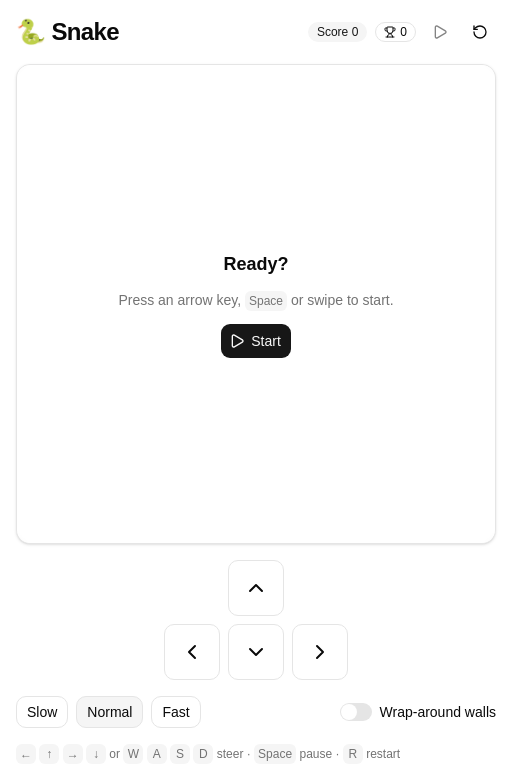
it: playing › pauses and resumes with Space and the header button
Press ArrowRight
Wait 300 ms
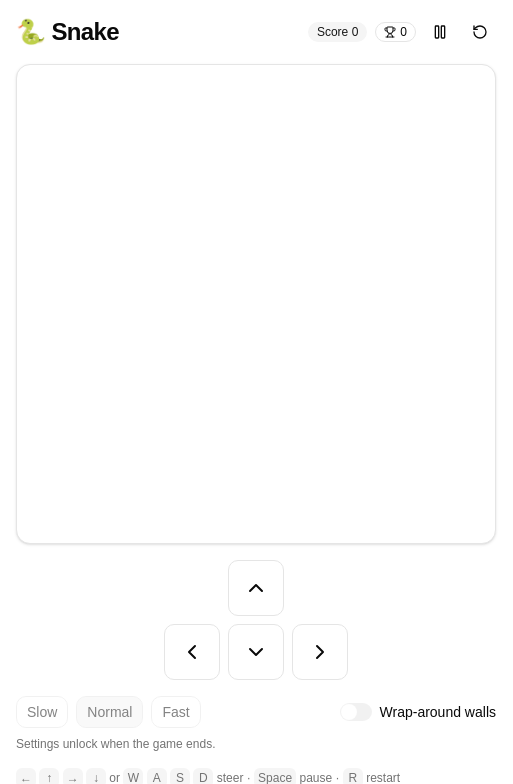
Press Space
Wait 1500 ms
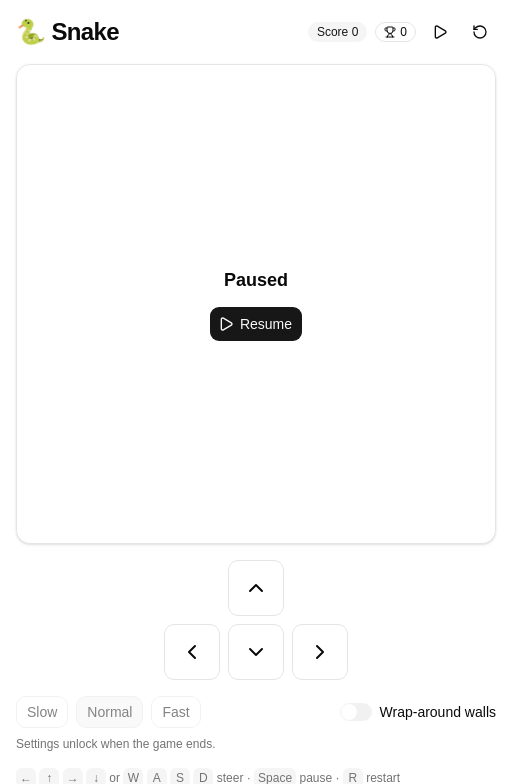
Expected: the text "Paused" is shown, [224,266,288,294]
Press ArrowUp
Click the button named "Resume".
click(440, 32)  # box [424,16,456,48]
Wait 300 ms
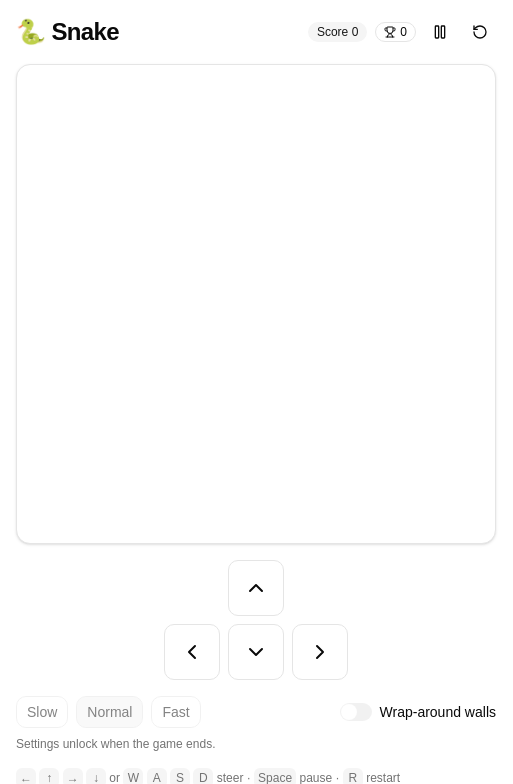
Click the button named "Pause".
click(440, 32)  # box [424,16,456,48]
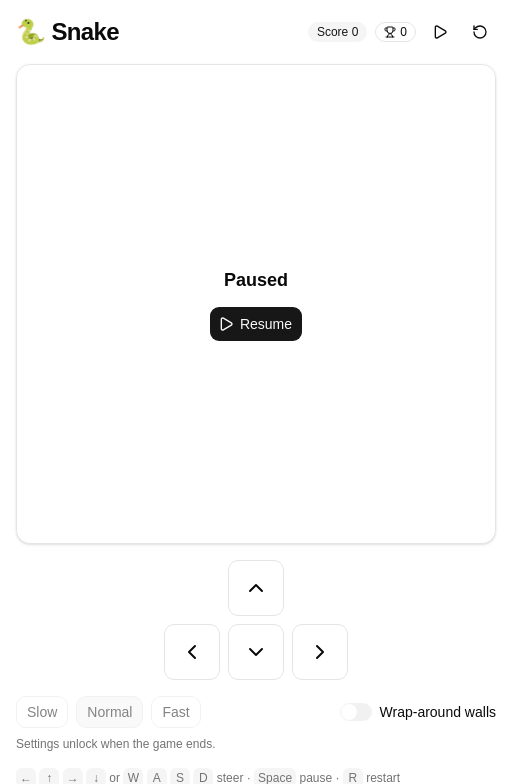
Expected: the text "Paused" is shown, [224,266,288,294]
